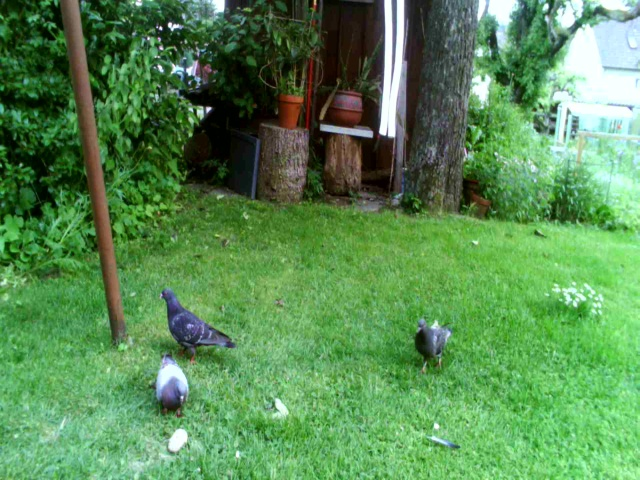Pigeon: (157, 286, 247, 366), (146, 355, 199, 422), (408, 313, 463, 374)
